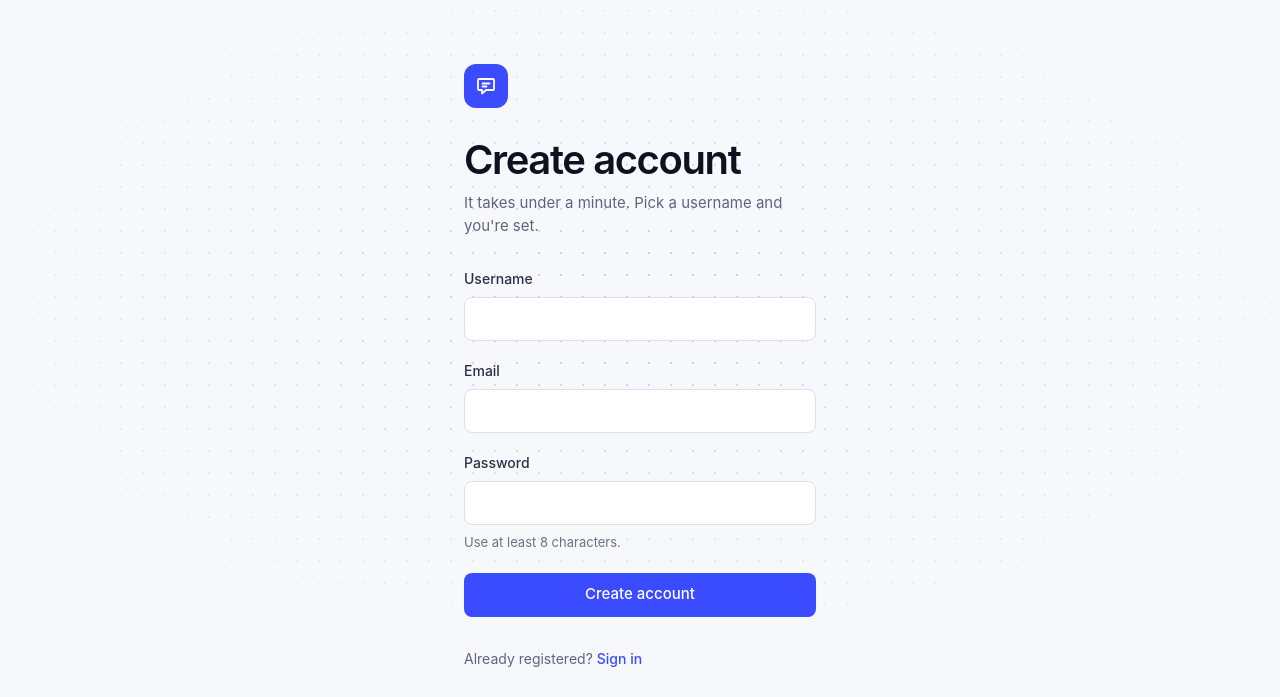
Test case: RegisterPage › displays a success message after registration
The image size is (1280, 697).
Type "john" into the field labelled "Username". click: [640, 319]
box: [464,297,816,341]
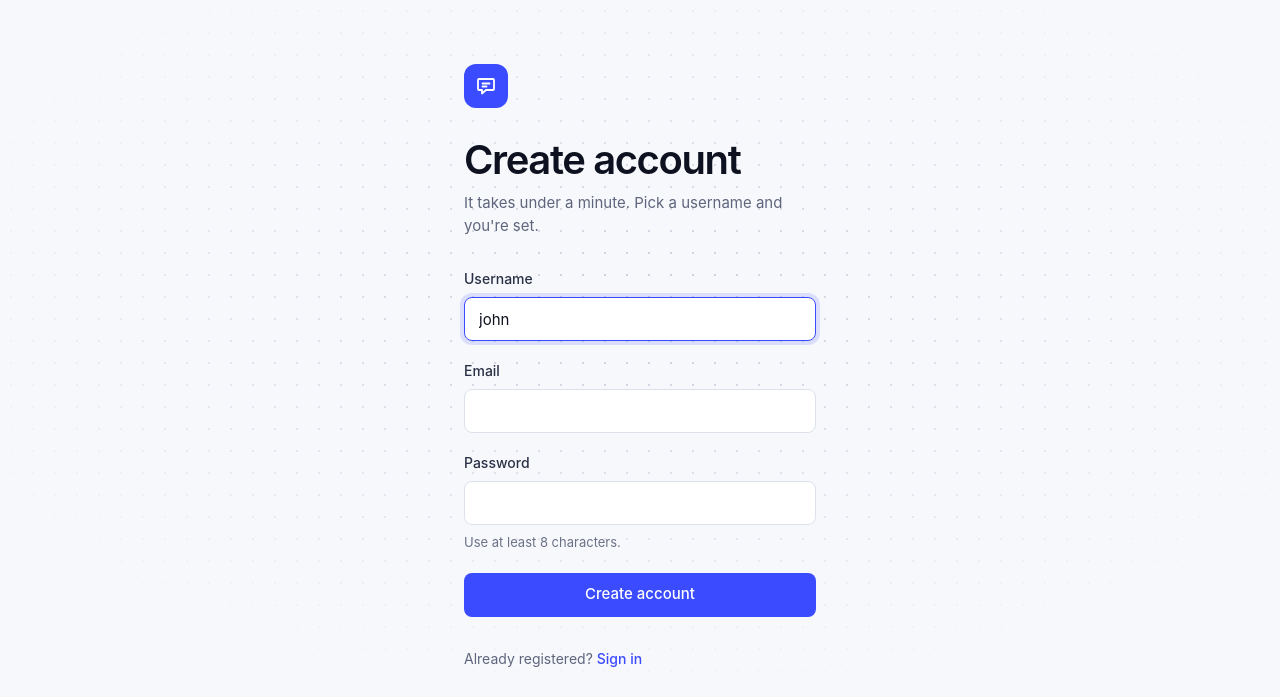
Type "john@example.com" into the field labelled "Email". click: [640, 411]
box: [464,389,816,433]
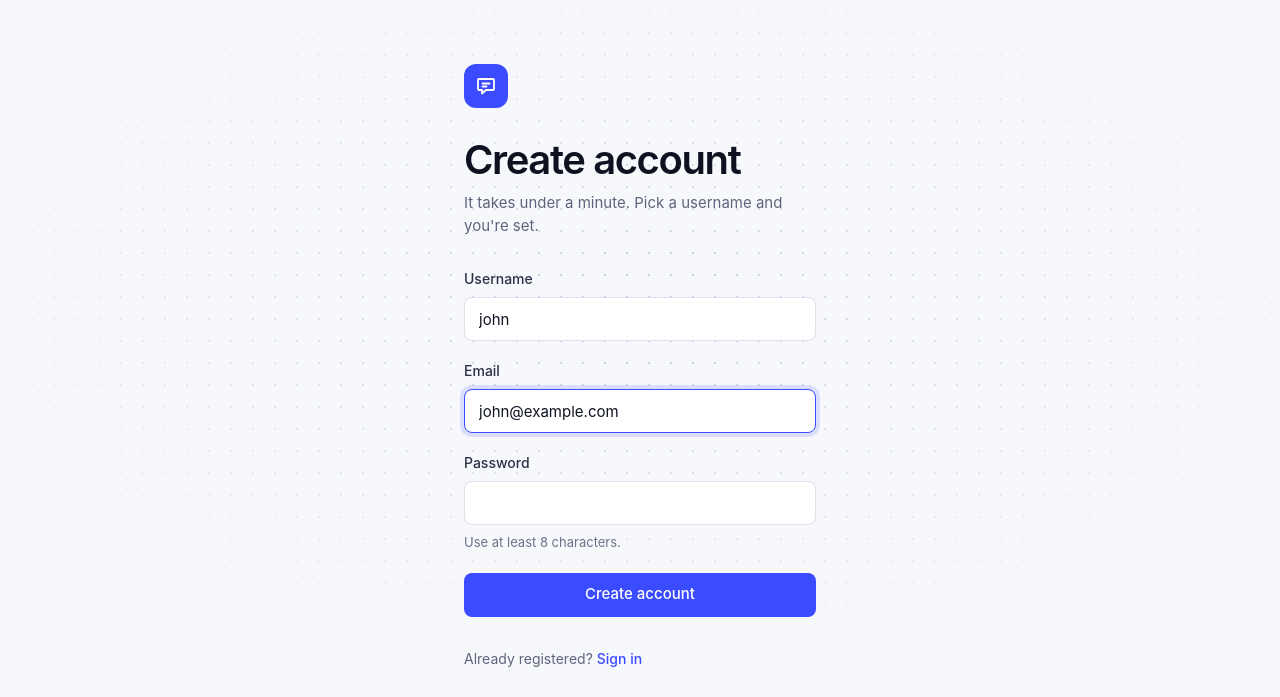
Type "StrongPassword123!" into the password field labelled "Password". click: [640, 503]
box: [464,481,816,525]
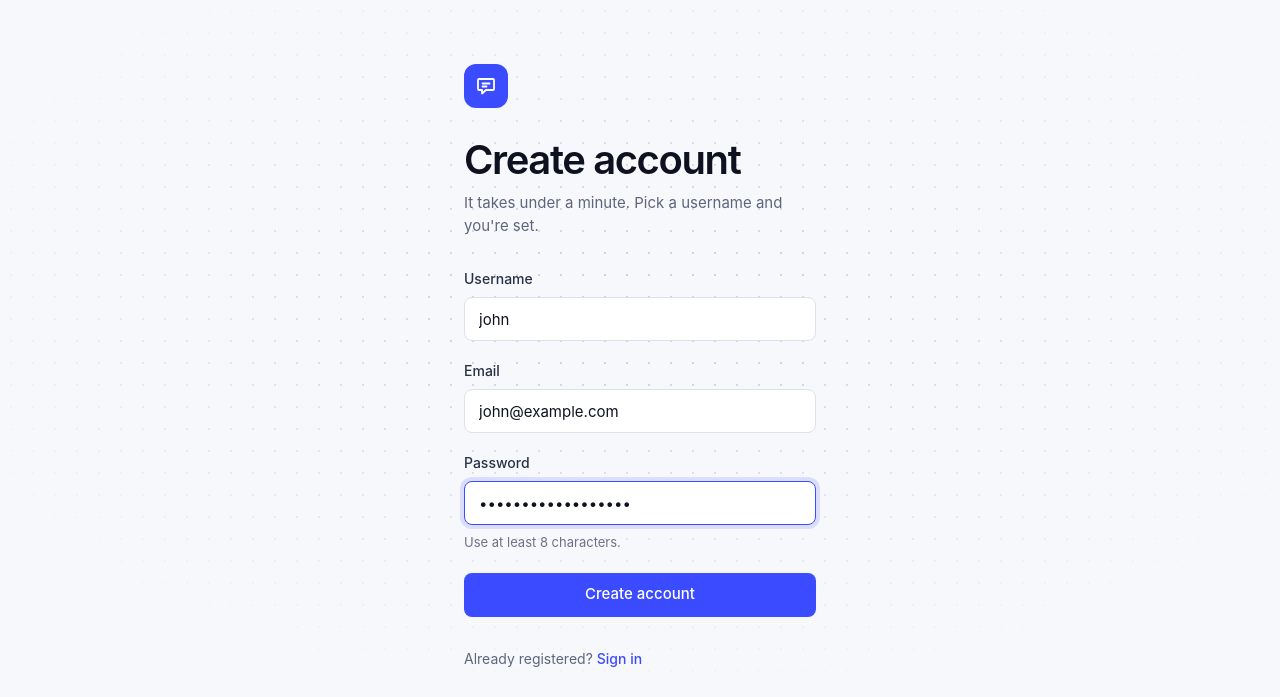
Click the button "Create account". click: [640, 594]
box: [464,572,816,616]
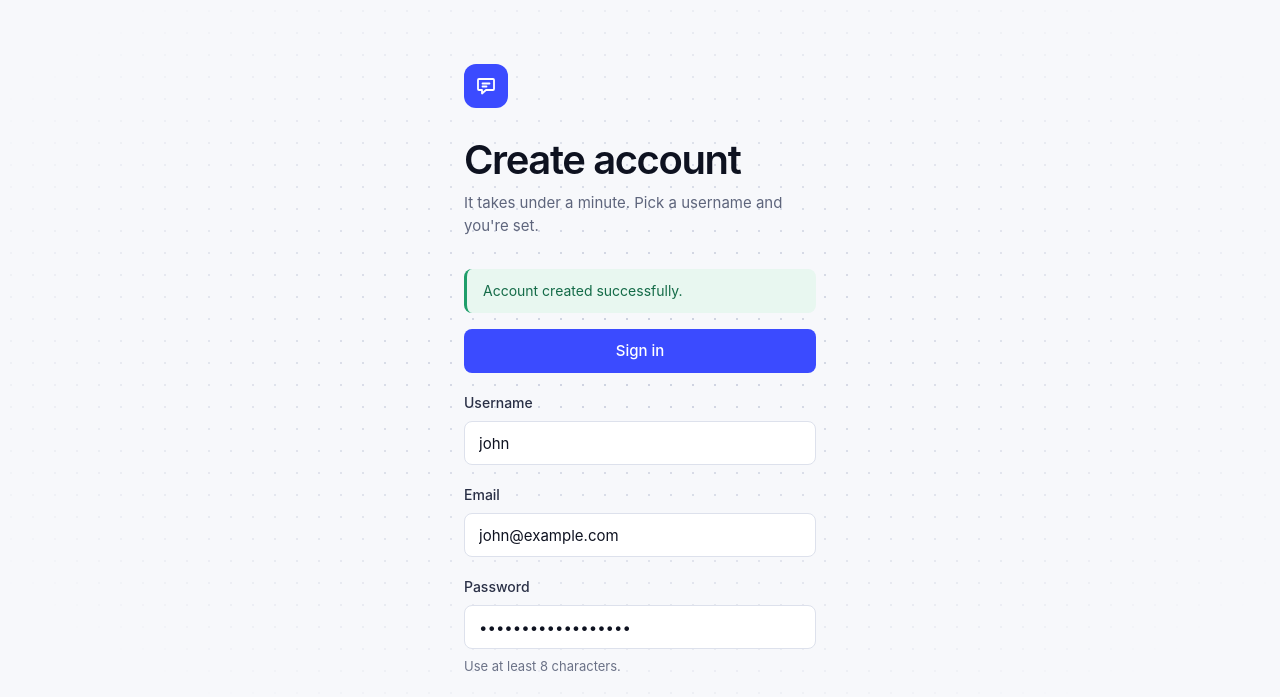
Result: the text "Account created successfully." is shown at [464,269,816,313]
